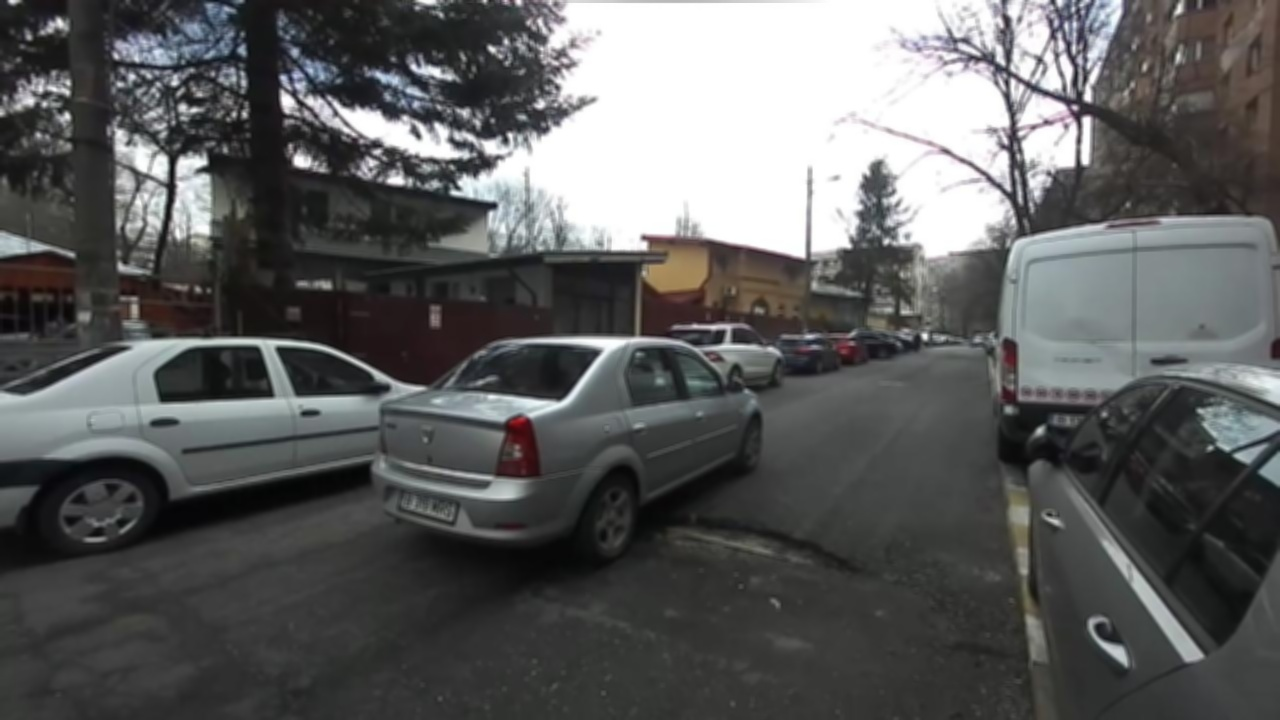pothole: (648, 513, 867, 582)
